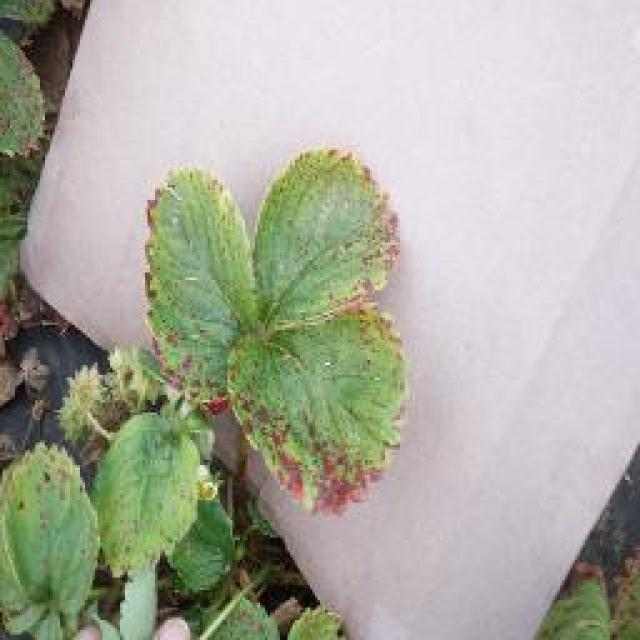Strawberry leaf scorch: (252, 396, 388, 482)
